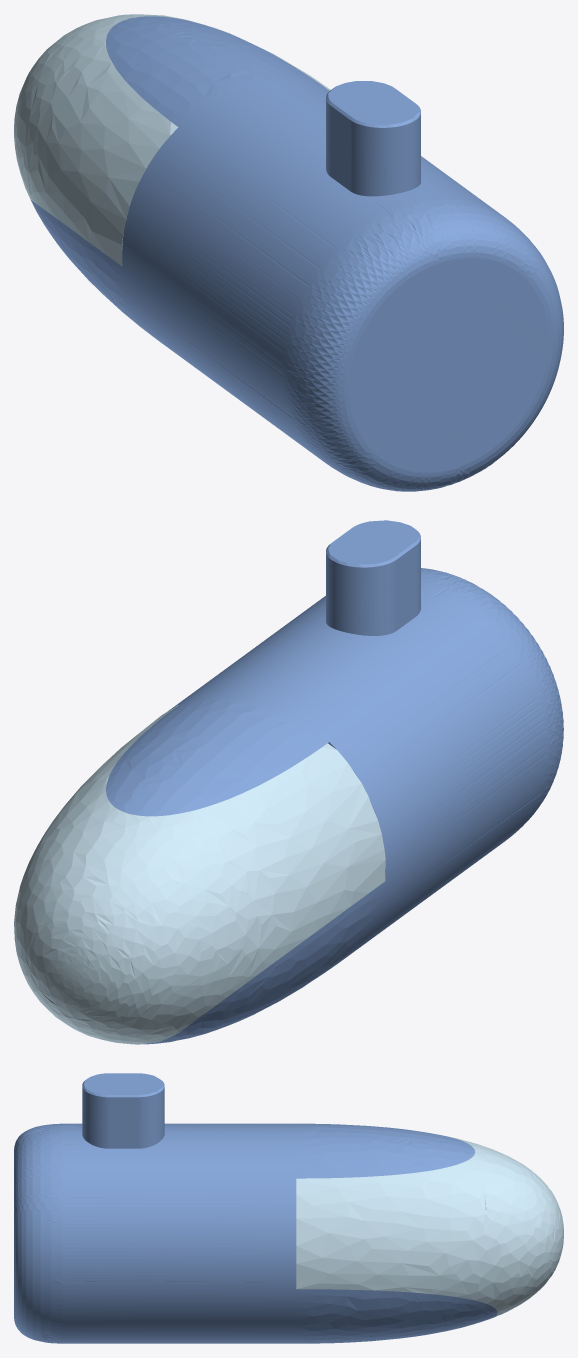
The picture shows the model from 3 angles, top to bottom: view 1: azimuth 30°, elevation 25°; view 2: azimuth 150°, elevation 25°; view 3: azimuth 270°, elevation 25°; orthographic projection. The views are drawn at different scales.
Visible parts, largest first — view 1: Shell, FrontWindow; view 2: Shell, FrontWindow; view 3: Shell, FrontWindow.
Boxes of the visible parts, x1=… form: Shell: x1=31, y1=16, x2=563, y2=491; FrontWindow: x1=14, y1=14, x2=330, y2=266; Shell: x1=106, y1=520, x2=563, y2=1044; FrontWindow: x1=14, y1=705, x2=385, y2=1044; Shell: x1=14, y1=1073, x2=497, y2=1343; FrontWindow: x1=296, y1=1135, x2=563, y2=1315.
Size of the model in its own units: 4 by 5 by 10.
